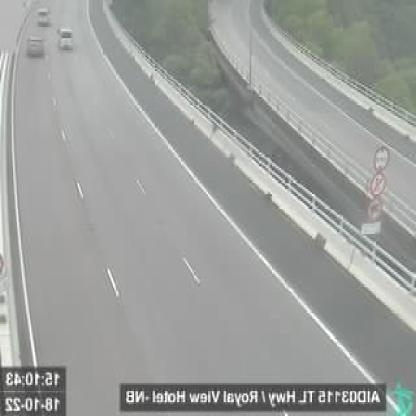Car: (26, 32, 46, 58), (58, 26, 75, 52), (35, 8, 49, 26)
